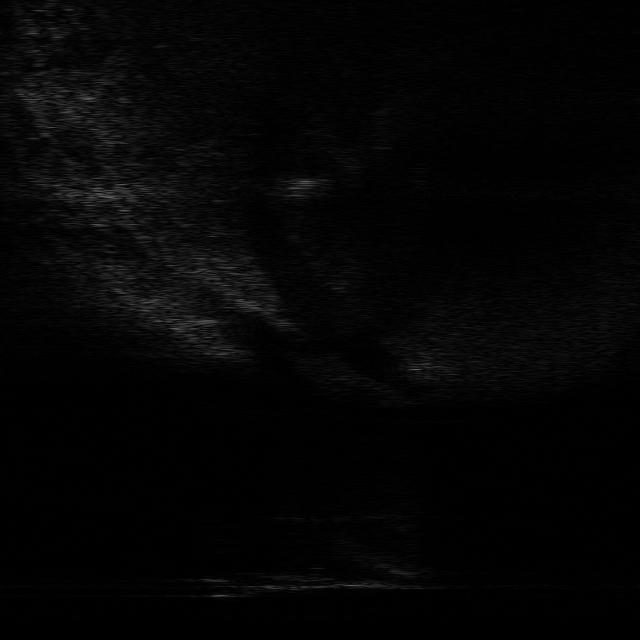plane: (182, 543, 432, 602)
